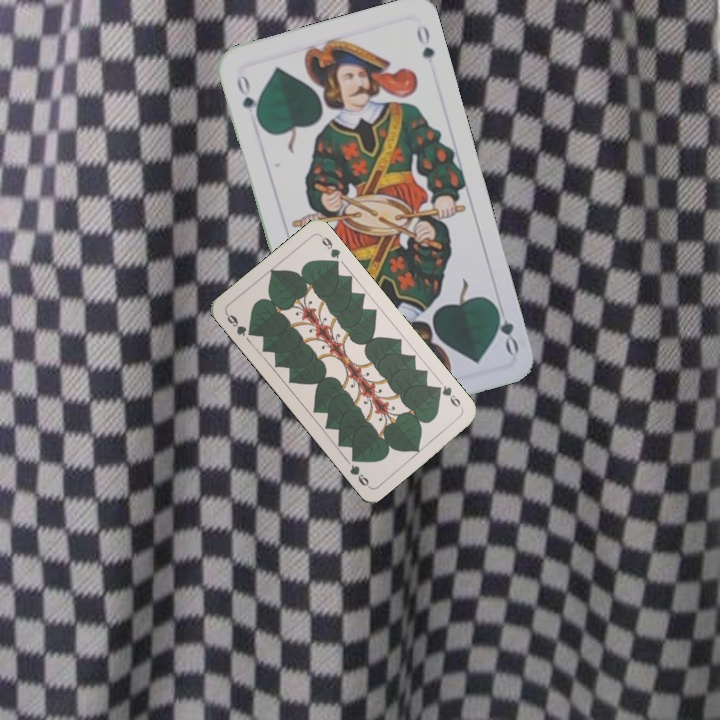G9: (222, 309, 257, 339), (431, 381, 463, 410)
GO: (489, 300, 522, 357), (232, 70, 263, 126)
